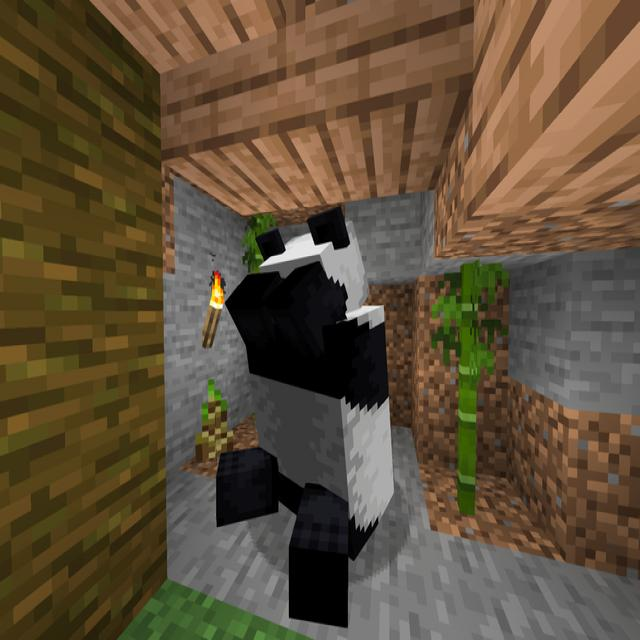Panda: (214, 202, 396, 630)
